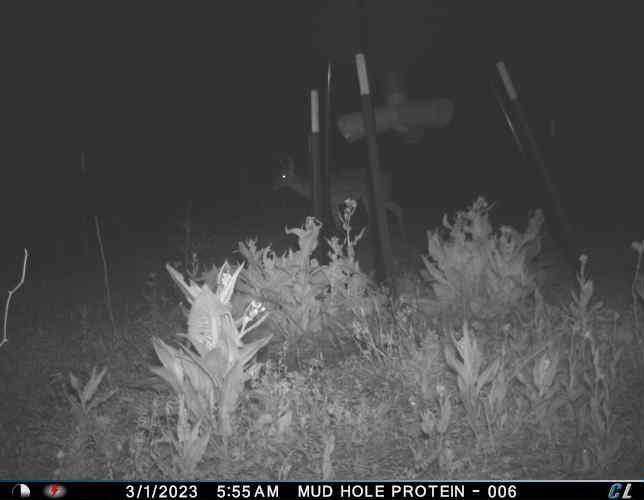Deer: (269, 154, 411, 241)
